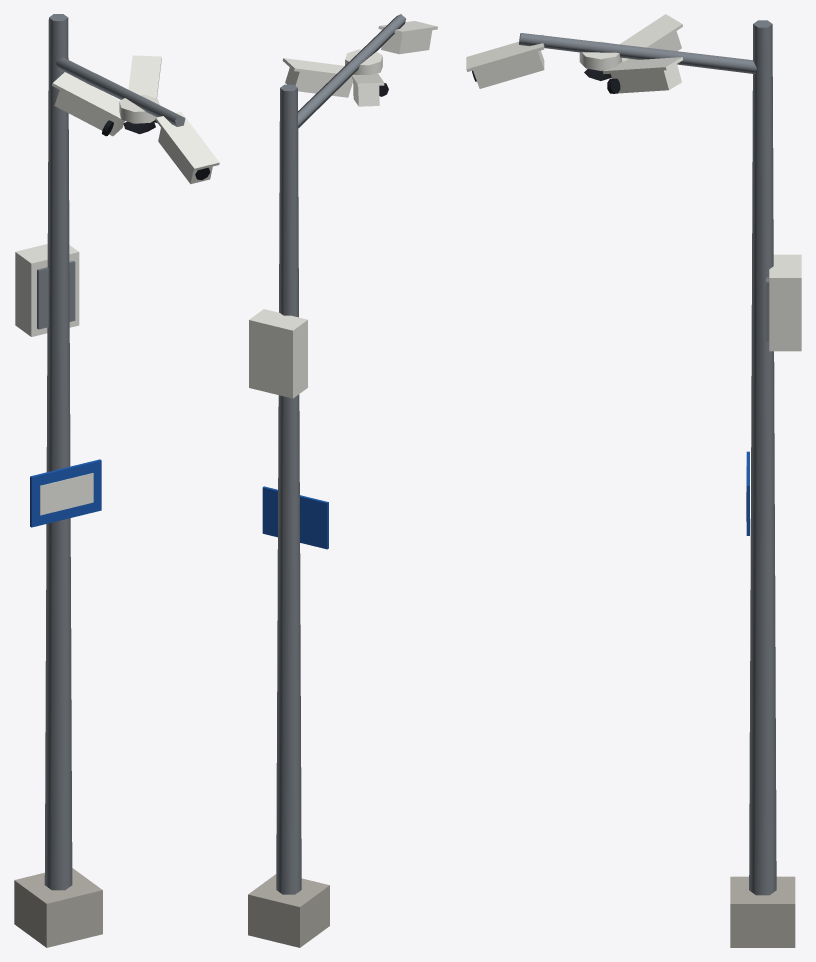
The model's file is cctv.glb.
3 renders of one model, left to right at view 1: azimuth 30°, elevation 25°; view 2: azimuth 150°, elevation 25°; view 3: azimuth 270°, elevation 25°, orthographic. The views are drawn at different scales.
Visible parts, largest first — view 1: body; view 2: body; view 3: body.
Part boxes in pixels (x1,y1,x2,y2): body: (14,14,219,947); body: (248,14,437,947); body: (466,14,801,947).
Bounding box in the file's own units: 0.7837 × 6.2 × 2.07.
1 material, 1 textured.
